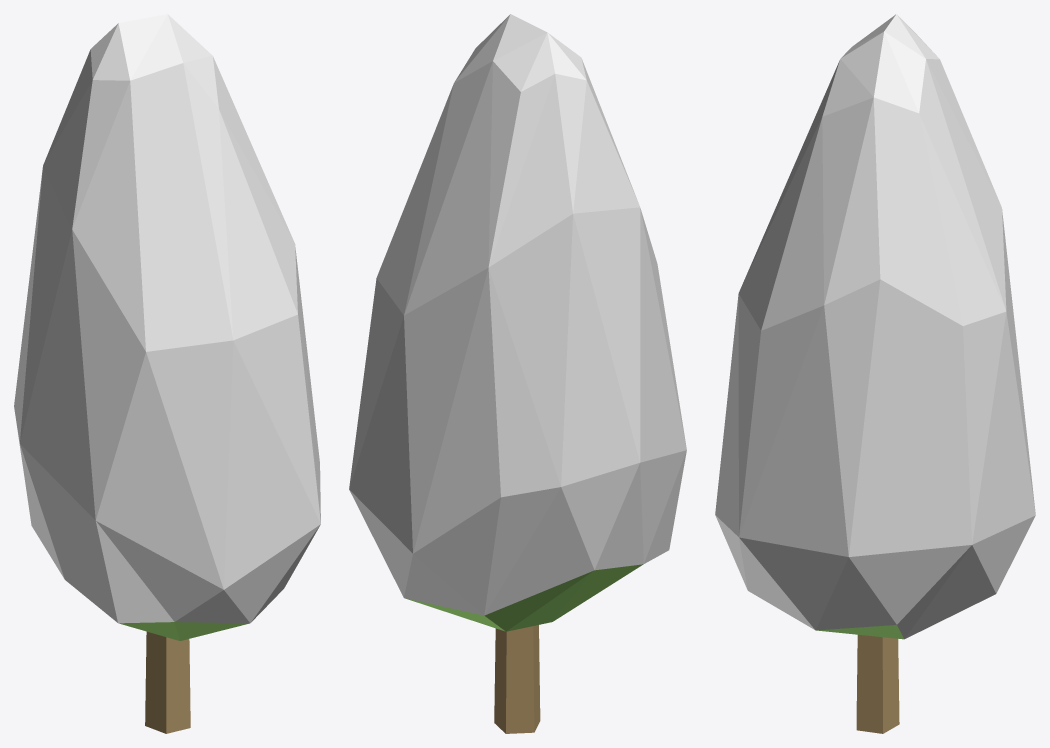
The model's file is Thuja_Tree_m_Snow_06_LOD.fbx.
The picture shows the model from 3 angles, left to right: view 1: azimuth 30°, elevation 25°; view 2: azimuth 150°, elevation 25°; view 3: azimuth 270°, elevation 25°; orthographic projection. The views are drawn at different scales.
Parts seen in each view (by area): view 1: Thuja_Tree_m_Snow_06_LOD0; view 2: Thuja_Tree_m_Snow_06_LOD0; view 3: Thuja_Tree_m_Snow_06_LOD0.
Part boxes in pixels (x1,y1,x2,y2): Thuja_Tree_m_Snow_06_LOD0: [14, 14, 320, 733]; Thuja_Tree_m_Snow_06_LOD0: [349, 14, 686, 733]; Thuja_Tree_m_Snow_06_LOD0: [715, 14, 1035, 733].
Size of what is drawn, in the model's own units: 174 by 431 by 181.
